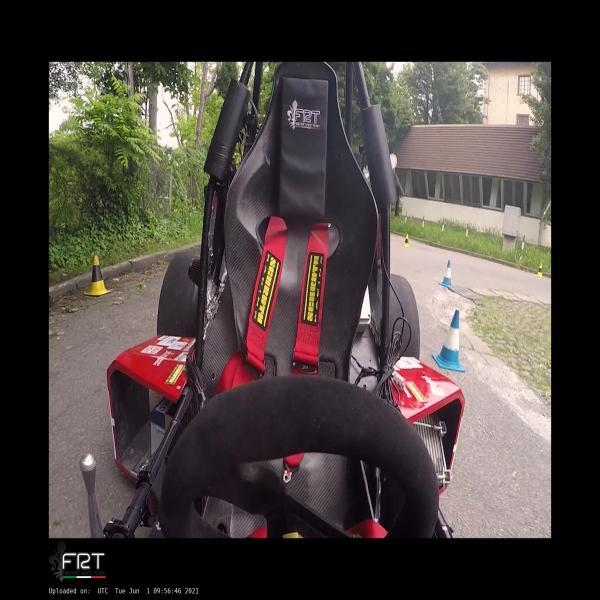blue_cone: (432, 310, 465, 372), (439, 260, 453, 288)
yellow_cone: (84, 256, 112, 295), (535, 263, 543, 277), (403, 234, 409, 247)
